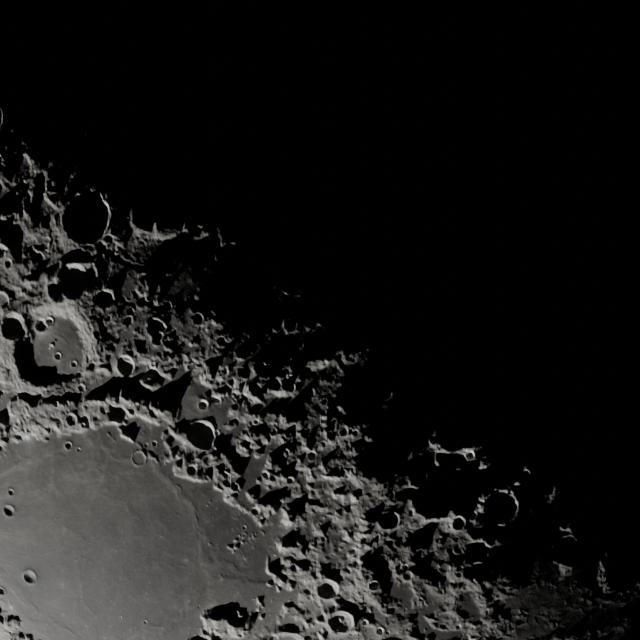crater: (375, 508, 400, 530), (115, 354, 136, 377), (147, 316, 168, 336), (317, 581, 338, 600), (193, 396, 211, 414), (451, 515, 467, 531), (131, 451, 146, 466), (190, 312, 206, 326), (101, 234, 117, 248), (214, 335, 229, 349), (304, 451, 318, 466), (22, 570, 37, 584), (337, 426, 351, 438), (464, 449, 476, 462), (368, 580, 381, 592), (122, 314, 135, 326), (162, 300, 175, 312), (186, 465, 198, 477), (4, 505, 15, 517), (228, 417, 240, 428), (35, 322, 47, 332), (250, 506, 261, 516), (336, 616, 347, 626), (63, 440, 73, 450), (266, 578, 276, 588), (86, 362, 96, 372), (3, 259, 12, 270), (77, 383, 86, 394), (376, 626, 385, 636), (149, 360, 158, 369), (54, 351, 62, 361), (70, 360, 79, 368), (46, 316, 54, 325), (49, 341, 56, 350), (0, 586, 6, 596), (151, 440, 158, 448), (7, 488, 14, 496), (44, 434, 51, 442), (242, 524, 248, 531), (76, 447, 82, 452)
